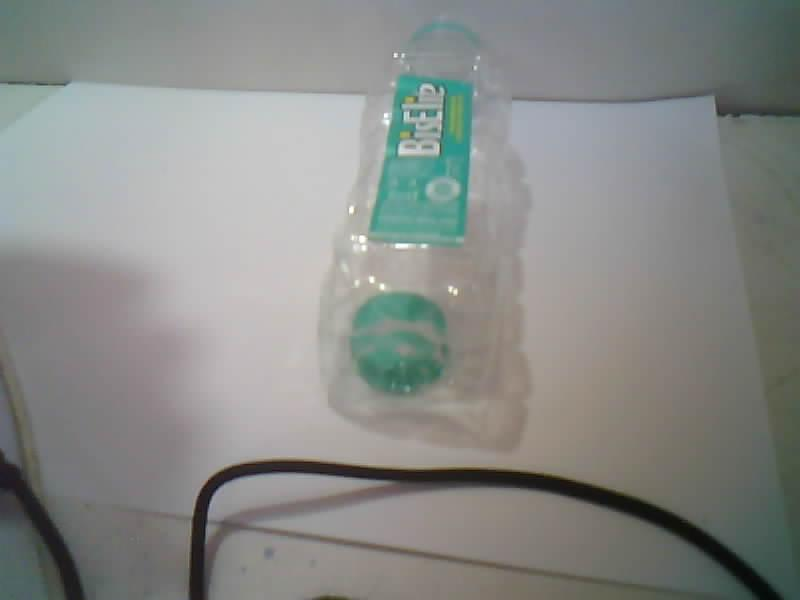non-biodegradable: (319, 22, 526, 440)
